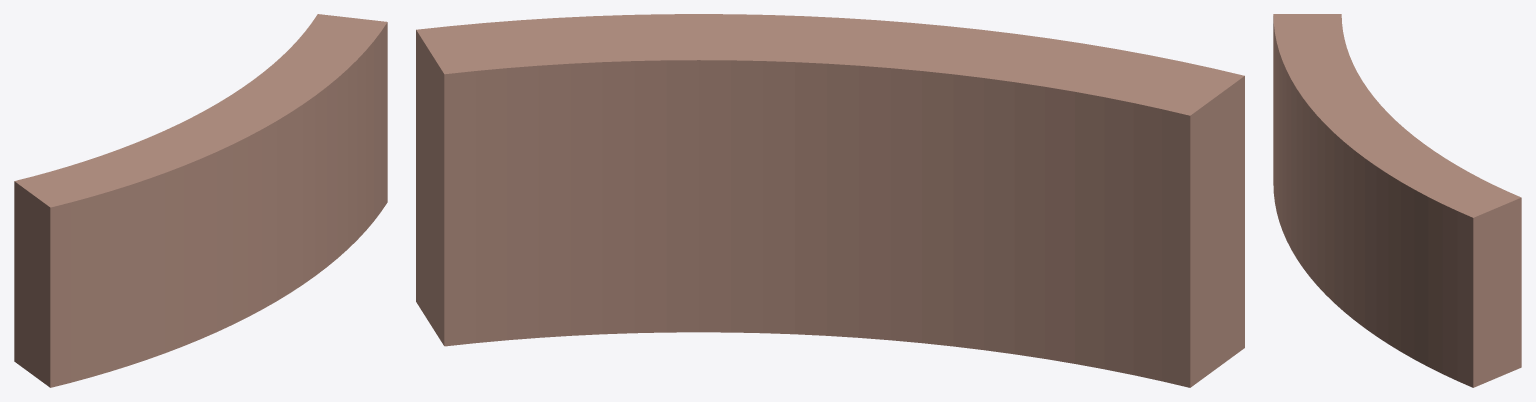
Rendered from ArcParapet_R2_A45.glb.
3 renders of one model, left to right at view 1: azimuth 30°, elevation 25°; view 2: azimuth 150°, elevation 25°; view 3: azimuth 270°, elevation 25°, orthographic. The views are drawn at different scales.
Parts seen in each view (by area): view 1: PBK_Parapet.014; view 2: PBK_Parapet.014; view 3: PBK_Parapet.014.
Boxes of the visible parts, box(x1,y1,x2,y2) form: PBK_Parapet.014: box(14, 14, 387, 387); PBK_Parapet.014: box(416, 14, 1244, 387); PBK_Parapet.014: box(1273, 14, 1521, 387).
Size of the model in its own units: 1.41 by 0.55 by 0.7272.
